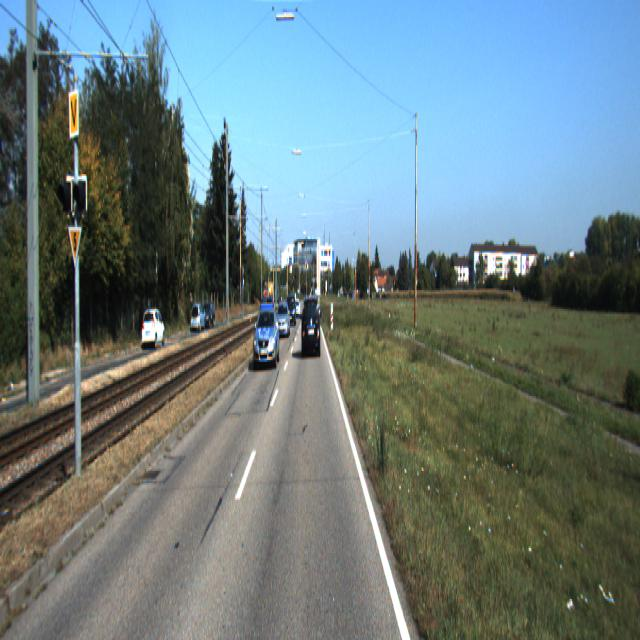Car: (253, 296, 281, 370), (302, 294, 321, 358), (142, 308, 166, 351), (276, 301, 291, 339), (191, 304, 206, 334), (201, 301, 216, 330), (286, 294, 297, 327)
